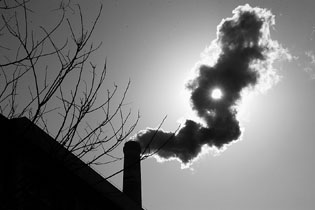dust: (119, 4, 280, 161)
